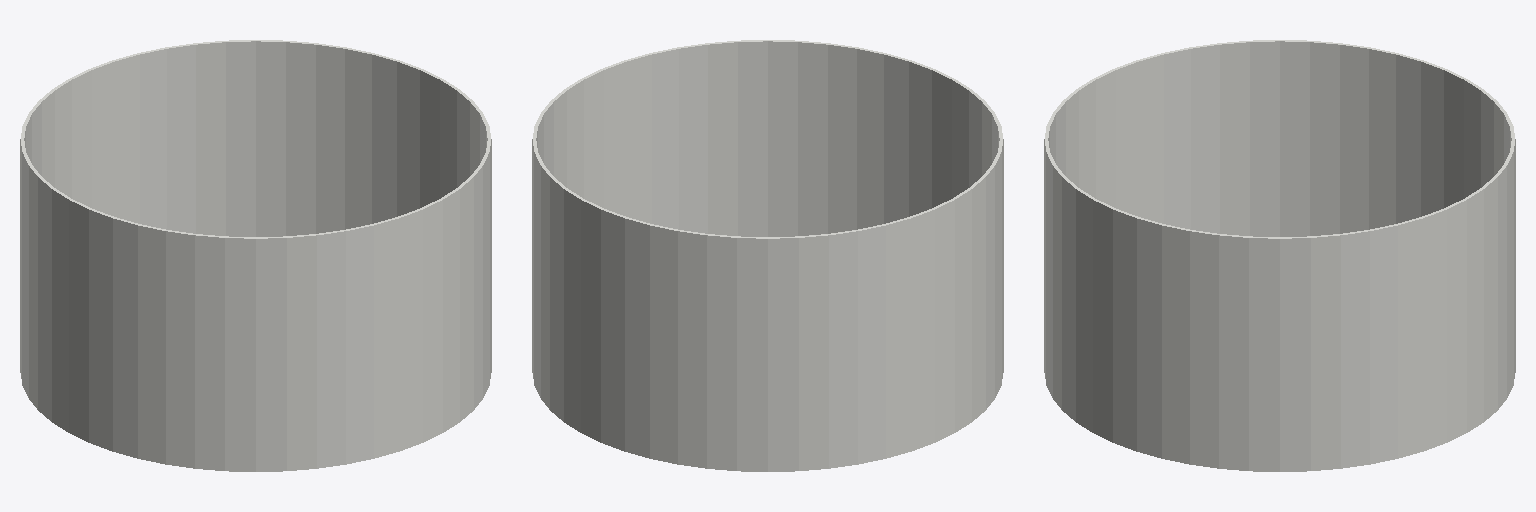
The robot description file, URDF, robot "interstage":
<?xml version="1.0"?>
<!-- S-IC/S-II interstage ring, at scale -->
<robot name="interstage">
  <link name="base">
    <visual>
      <origin xyz="0 0 0" rpy="0 0 0"/>
      <geometry><mesh filename="meshes/interstage_white.stl"/></geometry>
      <material name="base_0"><color rgba="0.920 0.920 0.900 1"/></material>
    </visual>
    <inertial><mass value="5200"/><origin xyz="0 0 0"/><inertia ixx="1" ixy="0" ixz="0" iyy="1" iyz="0" izz="1"/></inertial>
  </link>
</robot>

--- What the picture shows (computed from the rendered views, not written in the file) ---
The picture shows the robot from 3 angles, left to right: view 1: azimuth 30°, elevation 25°; view 2: azimuth 150°, elevation 25°; view 3: azimuth 270°, elevation 25°; orthographic projection.
Model interstage with 1 links and 0 joints (none), rooted at base, posed all joints at 0.
Visible links, largest first — view 1: base; view 2: base; view 3: base.
Boxes of the visible links, x1,y1,x2,y2 form: base: (20,40,491,471); base: (532,40,1003,471); base: (1044,40,1515,471).
Size in the robot's own frame: 10.06 by 10.06 by 5.5 metres.
Meshes: 1 distinct files referenced, 1 mesh visuals loaded (1 binary STL).
